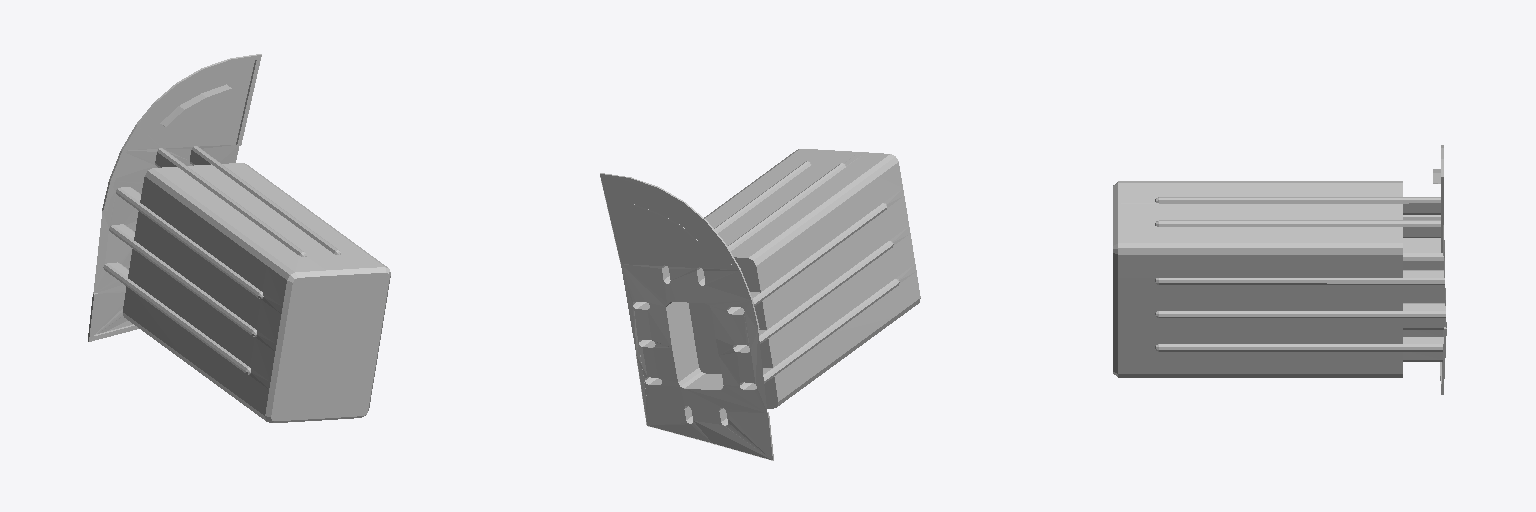
File: torony.obj
The picture shows the model from 3 angles: view 1: azimuth 30°, elevation 25°; view 2: azimuth 150°, elevation 25°; view 3: azimuth 270°, elevation 25°; orthographic projection.
Visible parts, largest first — view 1: SanClifft05_LAw2; view 2: SanClifft05_LAw2; view 3: SanClifft05_LAw2.
Boxes of the visible parts, <box> form: SanClifft05_LAw2: <box>88,54,390,422</box>; SanClifft05_LAw2: <box>600,149,920,460</box>; SanClifft05_LAw2: <box>1113,145,1446,394</box>.
Size of the model in its own units: 49.19 by 67.26 by 81.95.